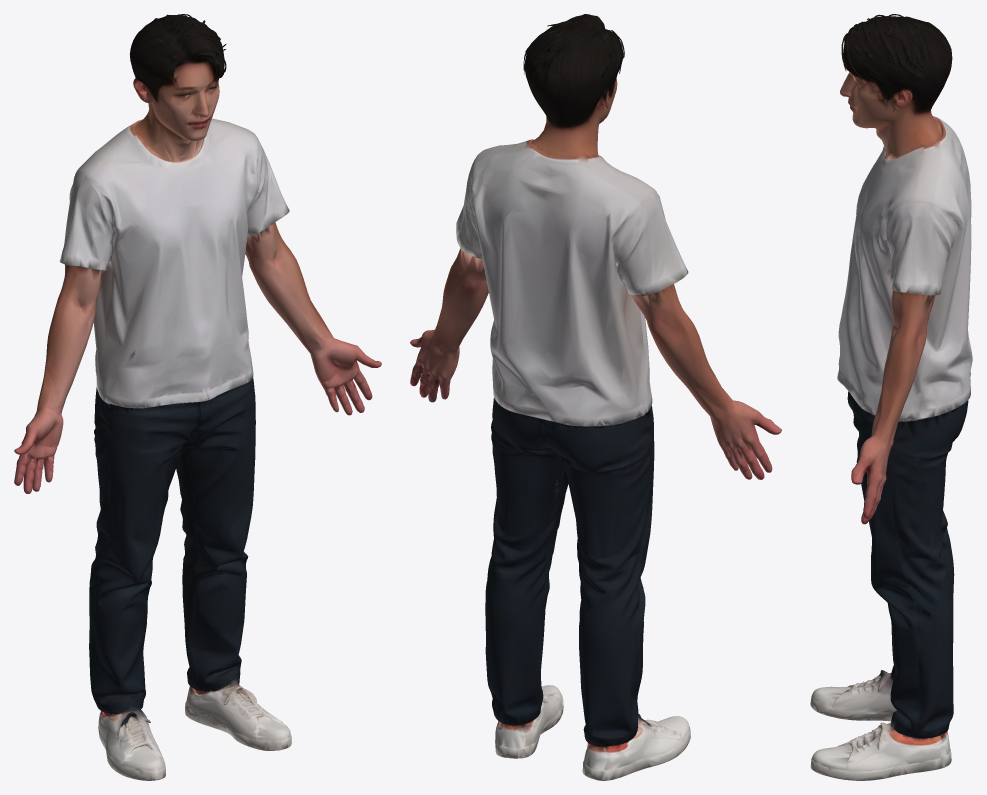
File: male.glb
The picture shows the model from 3 angles, left to right: view 1: azimuth 30°, elevation 25°; view 2: azimuth 150°, elevation 25°; view 3: azimuth 270°, elevation 25°; orthographic projection.
Visible parts, largest first — view 1: node_0; view 2: node_0; view 3: node_0.
Part boxes in pixels (left/top/right/bottom): node_0: left=14, top=14, right=381, bottom=780; node_0: left=410, top=14, right=781, bottom=780; node_0: left=810, top=14, right=972, bottom=780.
Size of the model in its own units: 0.6223 by 1.17 by 0.2372.
Materials: 1 (1 with a texture image).
